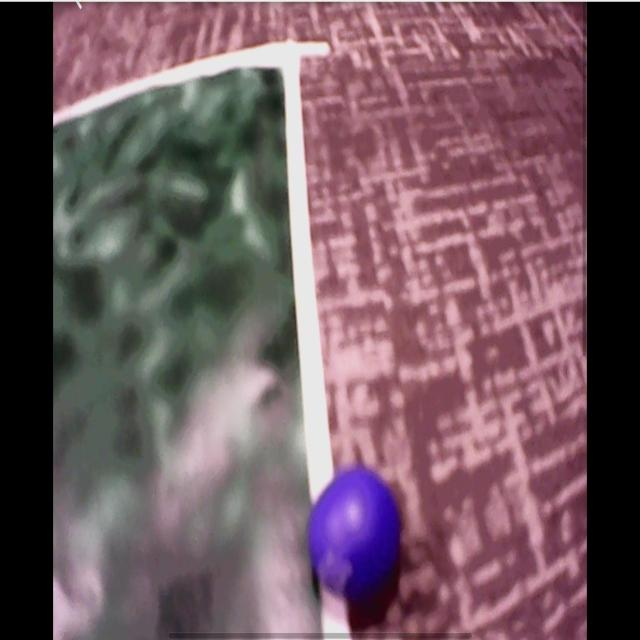ball: (308, 469, 402, 596)
